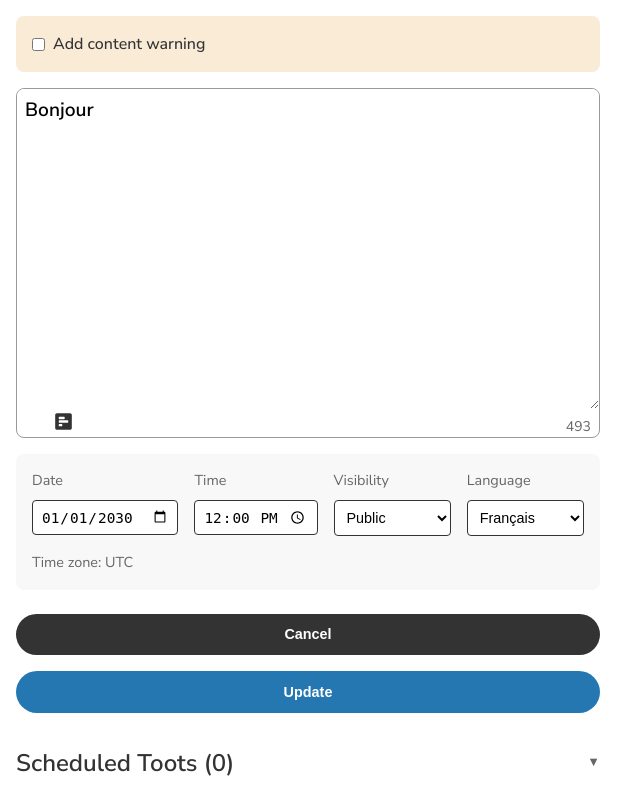
Test: TootComposer › empties the form on Cancel, without a deletion notice
This screenshot has width=617, height=793.
Click the button with class "cancel-button" at (308, 634), box [16,614,600,655]
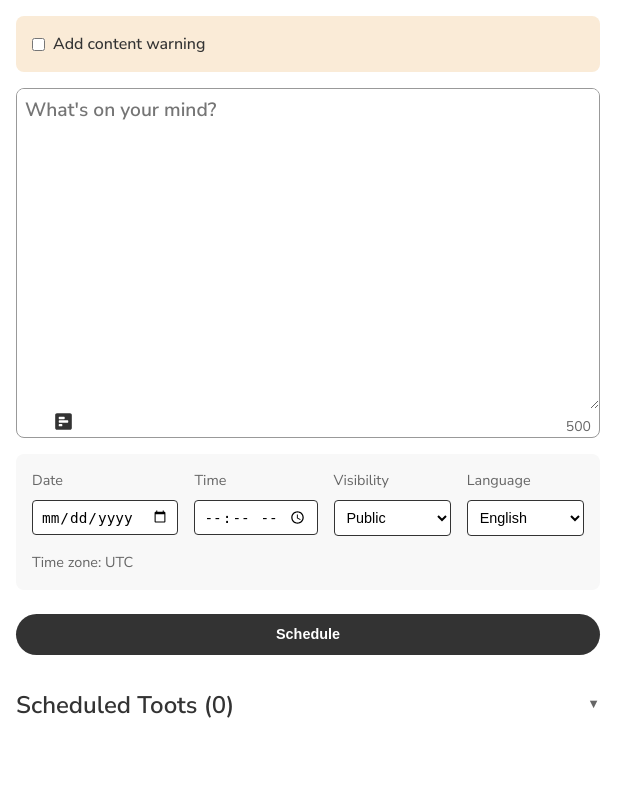
expect the text box with placeholder "What's on your mind?" is empty: met, box [17,89,599,409]
